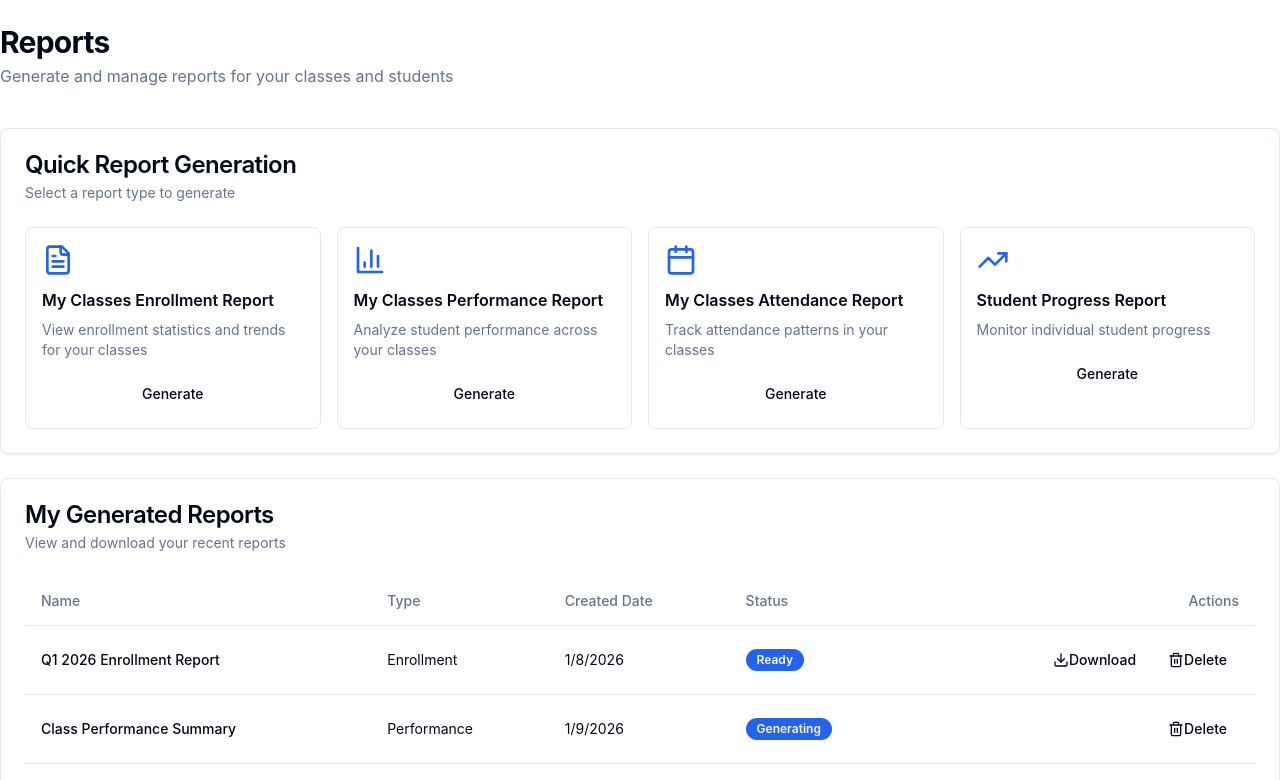
Scenario: StaffReportsPage › Generate Report › should successfully generate a report
Expected: the text "Q1 2026 Enrollment Report" is shown, [25,625,371,694]
Step 1. Click the button "My Classes Enrollment Report" → point(173, 328), box [25,227,320,429]
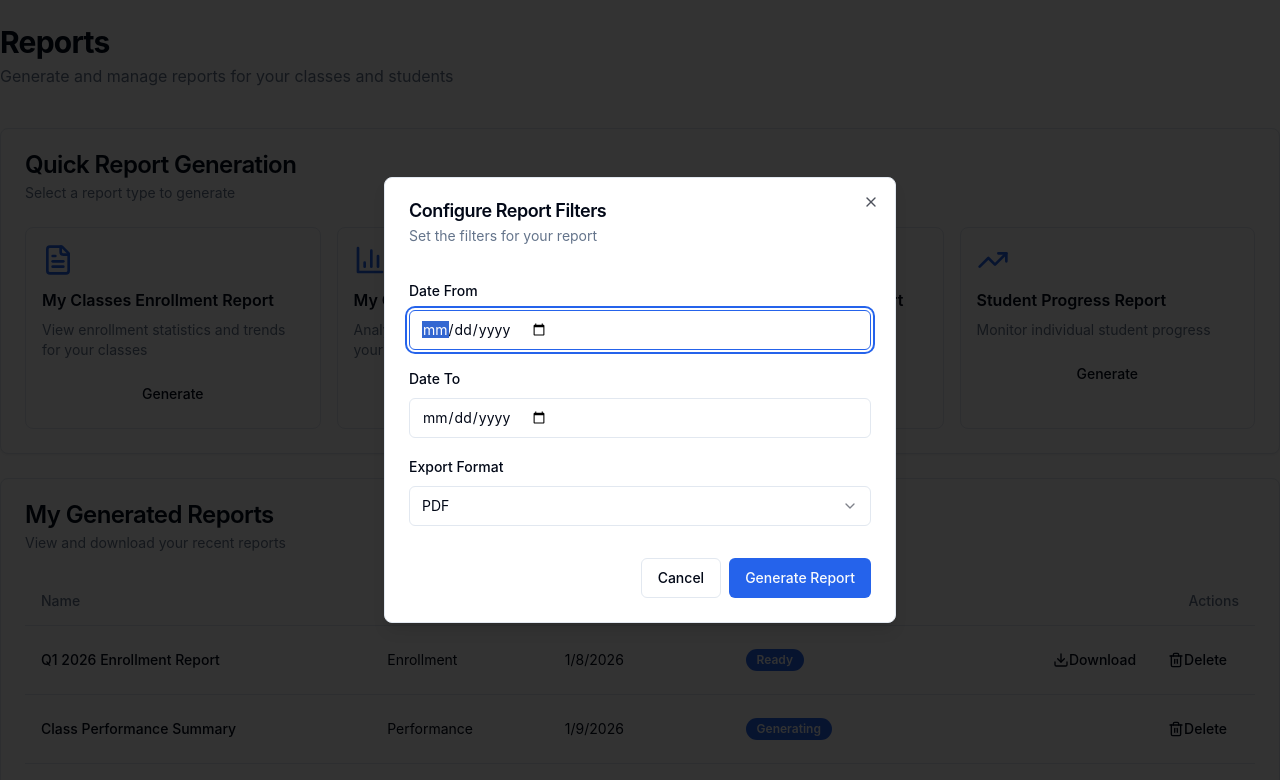
Expected: the dialog is shown, [384,177,896,623]
# Fill in the form
Step 2. Type "2026-01-01" into the date field labelled "Date From" → point(640, 330), box [409,310,871,350]
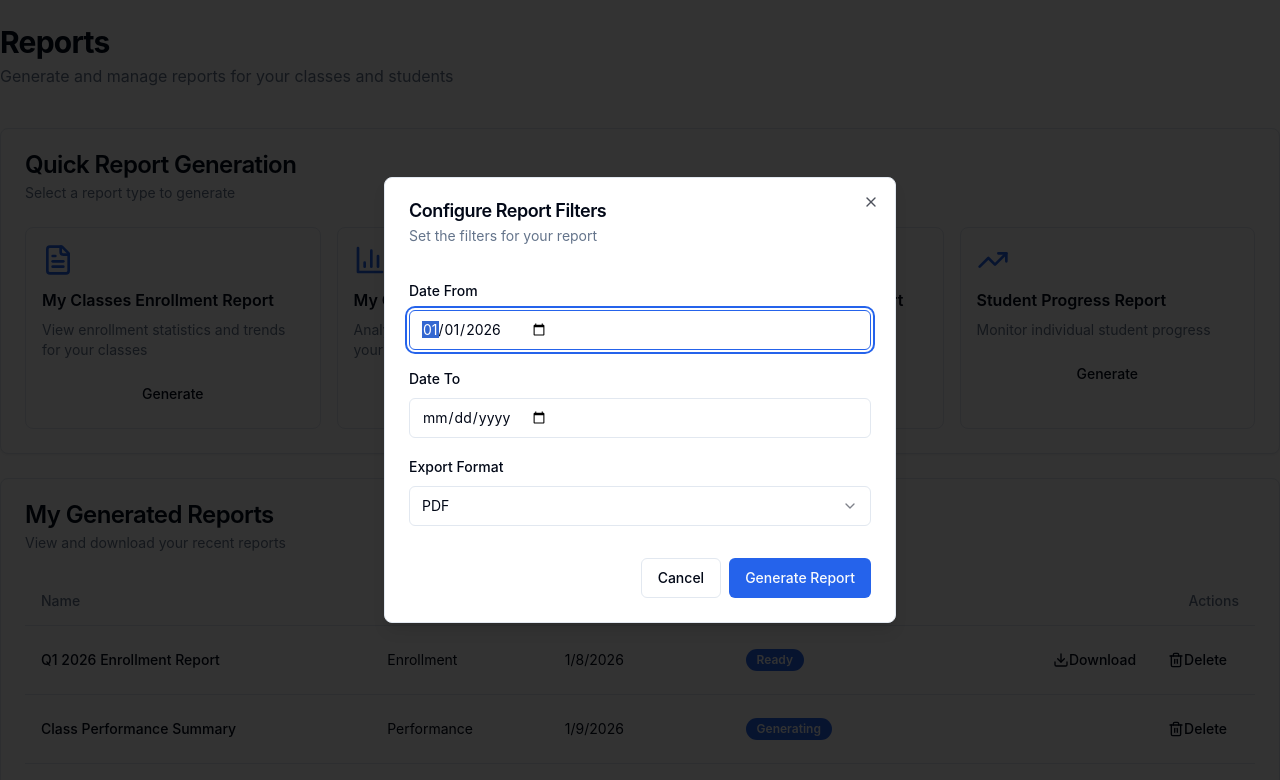
Step 3. Type "2026-01-31" into the date field labelled "Date To" → point(640, 418), box [409,398,871,438]
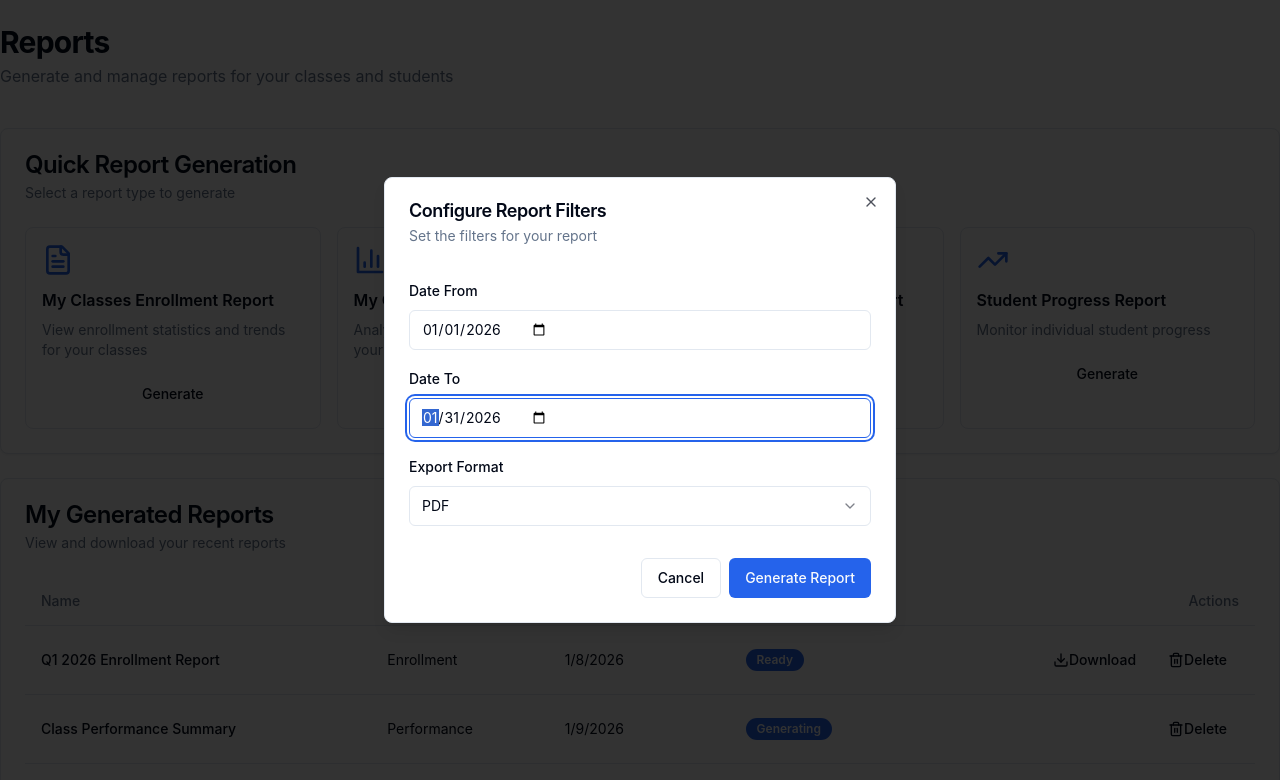
Step 4. Click the button "Generate Report" → point(800, 578), box [729,558,871,598]
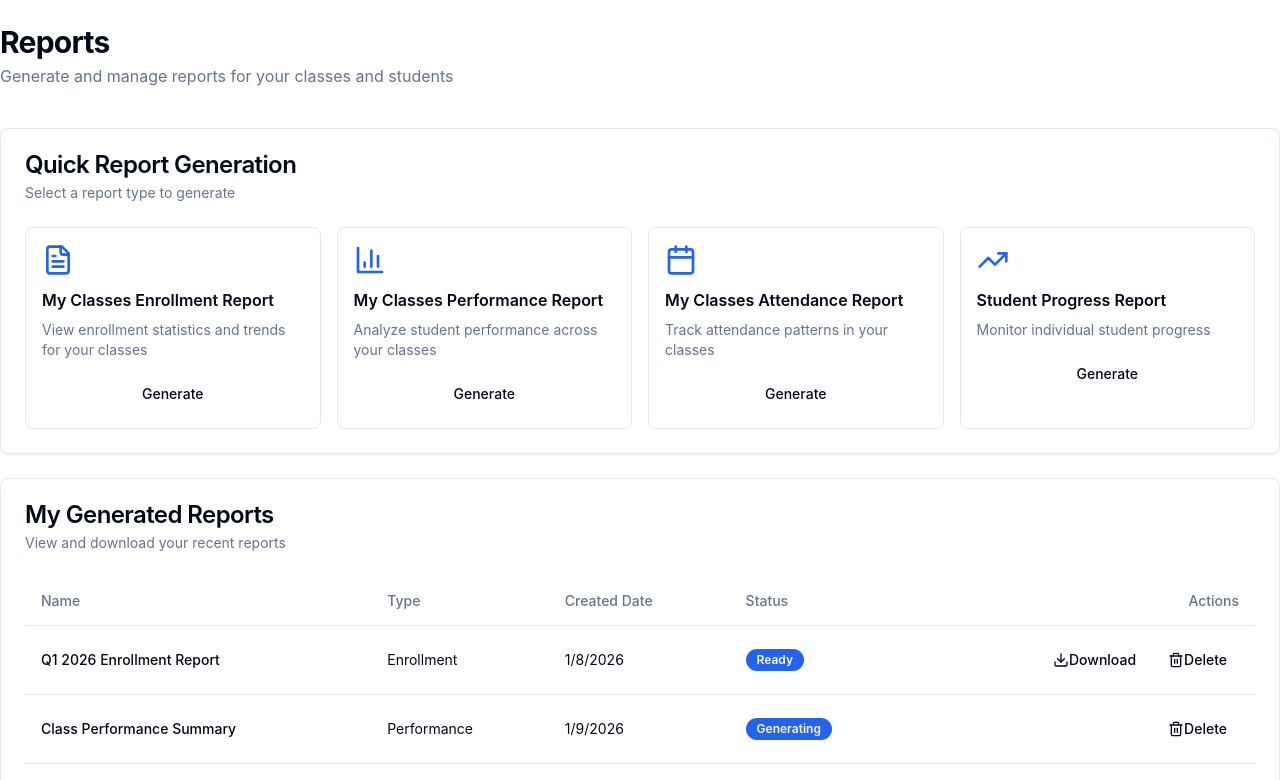
Expected: the dialog is gone
